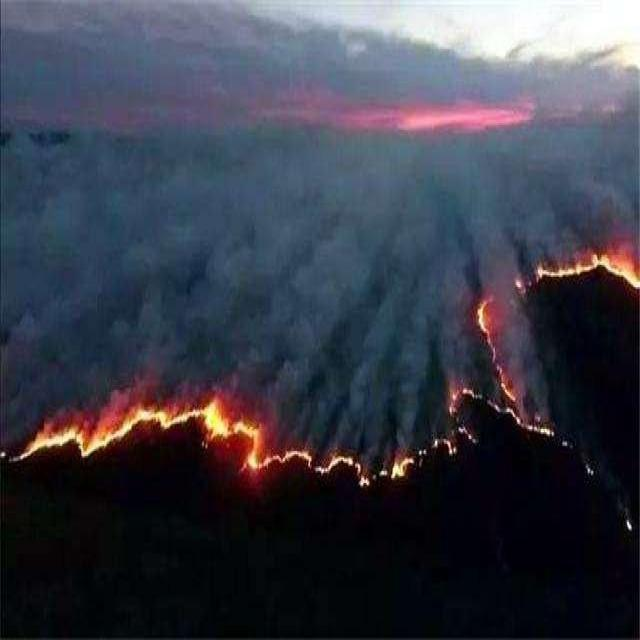Fire: (8, 389, 452, 486), (452, 223, 638, 439)
Smoke: (4, 116, 426, 390), (430, 113, 640, 221)
